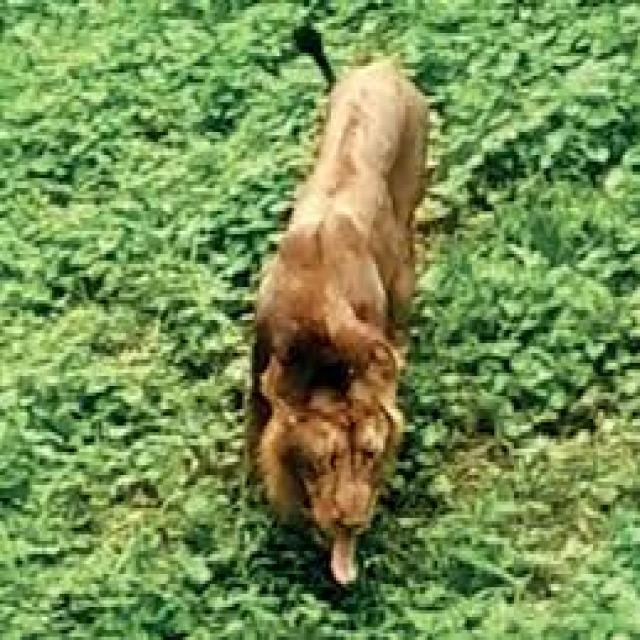Lion: (240, 65, 430, 559)
